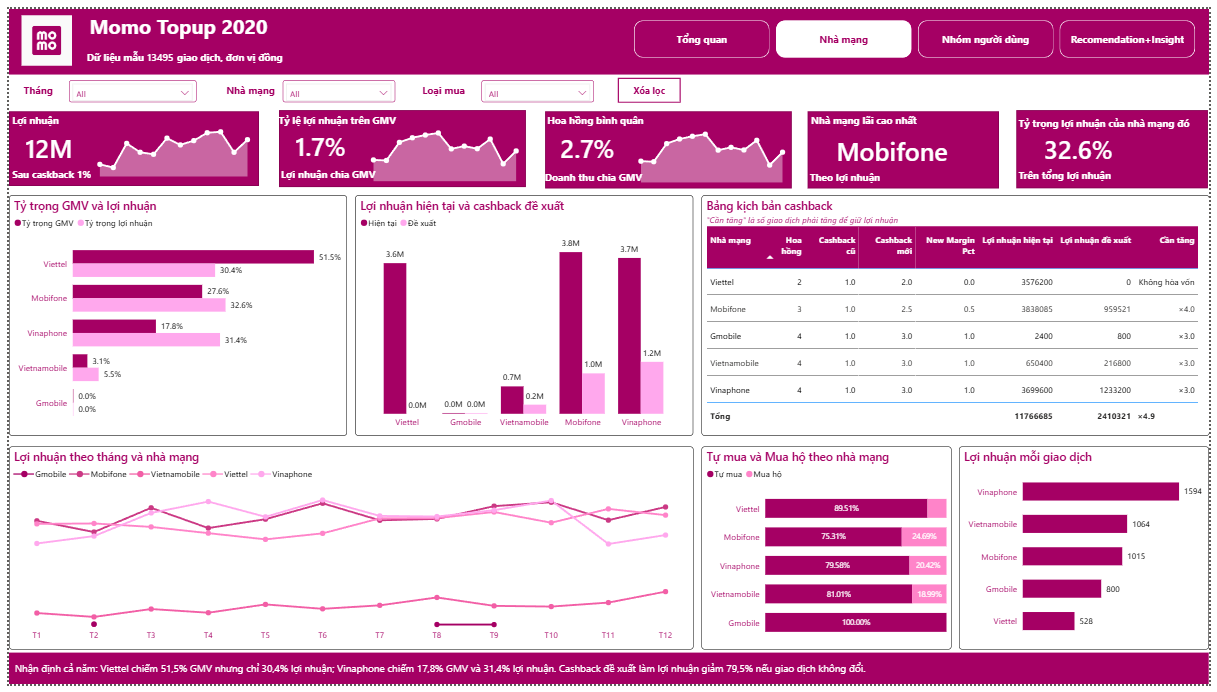

The page's visual inventory and layout, read from the dashboard file:
{"tool":"powerbi","page":{"name":"Nhà mạng","canvas":[1920,1080],"ordinal":1},"visuals":[{"type":"textbox","box":[106.4,0,407.2,97.2],"z":0,"group":"g1"},{"type":"slicer","fields":{"Values":["Date.Month_Label"]},"box":[95.7,113.7,203.6,34.9],"z":0,"group":"g3"},{"type":"slicer","fields":{"Values":["Commission.Merchant_Name"]},"box":[438,113.7,179.8,34.9],"z":0,"group":"g2"},{"type":"slicer","fields":{"Values":["Transactions.Purchase_Type"]},"box":[756.5,113.7,179.8,34.9],"z":0,"group":"g4"},{"type":"shape","box":[1612.6,161.4,306.1,124.7],"z":0,"group":"g10"},{"type":"shape","box":[430.7,163.3,394.9,122.9],"z":0,"group":"g14"},{"type":"shape","box":[0,164.3,400,119.2],"z":0,"group":"g11"},{"type":"shape","box":[857,164.3,394.2,122.9],"z":0,"group":"g12"},{"type":"shape","box":[1278.1,164.3,306,122.9],"z":0,"group":"g13"},{"type":"clusteredBarChart","title":"Tỷ trọng GMV và lợi nhuận","fields":{"Category":["Commission.Merchant_Name"],"Y":["_Measures.GMV Share","_Measures.Profit Share"]},"box":[0,299,541.1,385.2],"z":0},{"type":"cardVisual","fields":{"Data":["_Measures.Total Transactions"]},"box":[192.2,48.9,108.2,55],"z":1000,"group":"g1"},{"type":"textbox","box":[18.7,113.7,77,34.9],"z":1000,"group":"g3"},{"type":"textbox","box":[337.1,113.7,100.9,34.9],"z":1000,"group":"g2"},{"type":"textbox","box":[655.6,113.7,100.9,34.9],"z":1000,"group":"g4"},{"type":"cardVisual","fields":{"Data":["_Measures.Profit on GMV"]},"box":[444.9,187,191.5,64.2],"z":1000,"group":"g14"},{"type":"cardVisual","fields":{"Data":["_Measures.Profit"]},"box":[13.5,187.6,135.2,66],"z":1000,"group":"g11"},{"type":"cardVisual","fields":{"Data":["_Measures.Take Rate"]},"box":[869.2,187.8,189.7,64.2],"z":1000,"group":"g12"},{"type":"cardVisual","fields":{"Data":["_Measures.Top Merchant Profit Share"]},"box":[1644.2,192.4,219.9,61.5],"z":1000,"group":"g10"},{"type":"cardVisual","fields":{"Data":["_Measures.Top Merchant Name"]},"box":[1313.6,193.5,229,64.2],"z":1000,"group":"g13"},{"type":"shape","box":[0,1030.3,1919.6,50],"z":1000},{"type":"shape","box":[0,0,1920.5,104.6],"z":2000},{"type":"textbox","box":[0,161.9,139.2,38.5],"z":2000,"group":"g11"},{"type":"textbox","box":[856,161.9,281.7,34.9],"z":2000,"group":"g12"},{"type":"textbox","box":[1278.6,161.9,218.3,34.9],"z":2000,"group":"g13"},{"type":"textbox","box":[425.6,162.8,281.6,34.9],"z":2000,"group":"g14"},{"type":"textbox","box":[1611.1,164.5,291.4,35.1],"z":2000,"group":"g10"},{"type":"image","box":[0,9.2,121.1,80.7],"z":3000},{"type":"textbox","box":[0,248.3,233.2,34.9],"z":3000,"group":"g11"},{"type":"textbox","box":[1610.5,248.8,240.1,31.6],"z":3000,"group":"g10"},{"type":"textbox","box":[429.8,249.4,328.5,34.9],"z":3000,"group":"g14"},{"type":"textbox","box":[851.2,251.8,326.8,34.9],"z":3000,"group":"g12"},{"type":"textbox","box":[1276.8,252,253.1,34.9],"z":3000,"group":"g13"},{"type":"group","id":"g1","title":"Group 1","box":[106.4,0,407.2,104.6],"z":4000},{"type":"lineChart","title":"Giá trị trung bình/GD","fields":{"Category":["Date.Month_Label"],"Y":["_Measures.Profit"]},"box":[131.7,176.6,263.3,97.2],"z":4000,"group":"g11"},{"type":"lineChart","title":"Giá trị trung bình/GD","fields":{"Category":["Date.Month_Label"],"Y":["_Measures.Profit on GMV"]},"box":[569.2,179.7,255,102.7],"z":4000,"group":"g14"},{"type":"lineChart","title":"Giá trị trung bình/GD","fields":{"Category":["Date.Month_Label"],"Y":["_Measures.Take Rate"]},"box":[997.1,180.4,253.1,102.7],"z":4000,"group":"g12"},{"type":"pageNavigator","box":[999.7,18.3,900.6,60.5],"z":5000},{"type":"group","id":"g2","title":"Group 3","box":[337.1,113.7,280.6,34.9],"z":6000},{"type":"group","id":"g3","title":"Group 2","box":[18.7,113.7,280.6,34.9],"z":7000},{"type":"group","id":"g4","title":"Group 3","box":[655.6,113.7,280.6,34.9],"z":8000},{"type":"tableEx","title":"Bảng kịch bản cashback","fields":{"Values":["Commission.Merchant_Name","Commission.Rate_Pct","Commission.Cashback_Current_Pct","Commission.Cashback_New_Pct","Commission.New Margin Pct","_Measures.Profit","_Measures.Profit New Cashback","_Measures.Can Tang"]},"box":[1107.9,299,812.6,385.2],"z":9000},{"type":"actionButton","box":[974,110.1,100.9,40.4],"z":10000},{"type":"lineChart","title":"Lợi nhuận theo tháng và nhà mạng","fields":{"Category":["Date.Month_Label"],"Series":["Commission.Merchant_Name"],"Y":["_Measures.Profit"]},"box":[0,700.7,1095,324.7],"z":11000},{"type":"hundredPercentStackedBarChart","title":"Tự mua và Mua hộ theo nhà mạng","fields":{"Category":["Commission.Merchant_Name"],"Series":["Transactions.Purchase_Type"],"Y":["_Measures.Total Transactions"]},"box":[1107.9,700.7,400,325],"z":12000},{"type":"clusteredBarChart","title":"Lợi nhuận mỗi giao dịch","fields":{"Category":["Commission.Merchant_Name"],"Y":["_Measures.Profit per Transaction"]},"box":[1520.6,700.7,399.9,324.7],"z":13000},{"type":"textbox","box":[3.7,1037.1,1915.9,39.1],"z":14000},{"type":"group","id":"g5","title":"Group 4","box":[0,161.9,400,121.7],"z":15000},{"type":"group","id":"g6","title":"Group 4","box":[425.6,162.8,400,123.3],"z":16000},{"type":"group","id":"g7","title":"Group 4","box":[851.2,161.9,399.9,125.3],"z":17000},{"type":"group","id":"g8","title":"Group 4","box":[1276.8,161.9,307.3,125.3],"z":18000},{"type":"group","id":"g9","title":"Group 4","box":[1610.5,161.4,308.2,124.7],"z":19000},{"type":"group","id":"g10","title":"Group 6","box":[1610.5,161.4,308.2,124.7],"z":19004,"group":"g9"},{"type":"group","id":"g11","title":"Group 9","box":[0,161.9,400,121.7],"z":19004,"group":"g5"},{"type":"group","id":"g12","title":"Group 7","box":[851.2,161.9,399.9,125.3],"z":19004,"group":"g7"},{"type":"group","id":"g13","title":"Group 5","box":[1276.8,161.9,307.3,125.3],"z":19004,"group":"g8"},{"type":"group","id":"g14","title":"Group 8","box":[425.6,162.8,400,123.3],"z":19004,"group":"g6"},{"type":"clusteredColumnChart","title":"Lợi nhuận hiện tại và cashback đề xuất","fields":{"Category":["Commission.Merchant_Name"],"Y":["_Measures.Profit","_Measures.Profit New Cashback"]},"box":[553.9,299,541.1,385.2],"z":20000}]}

Visuals, with their boxes in screenshot pixels (x1, y1, x2, y2), scaled from the page's 1920x1080 canvas onto the 1217x692 screenshot:
textbox: x1=67 y1=0 x2=326 y2=62
slicer - Date.Month_Label: x1=61 y1=73 x2=190 y2=95
slicer - Commission.Merchant_Name: x1=278 y1=73 x2=392 y2=95
slicer - Transactions.Purchase_Type: x1=480 y1=73 x2=593 y2=95
shape: x1=1022 y1=103 x2=1216 y2=183
shape: x1=273 y1=105 x2=523 y2=183
shape: x1=0 y1=105 x2=254 y2=182
shape: x1=543 y1=105 x2=793 y2=184
shape: x1=810 y1=105 x2=1004 y2=184
"Tỷ trọng GMV và lợi nhuận" clusteredBarChart: x1=0 y1=192 x2=343 y2=438
cardVisual - _Measures.Total Transactions: x1=122 y1=31 x2=190 y2=67
textbox: x1=12 y1=73 x2=61 y2=95
textbox: x1=214 y1=73 x2=278 y2=95
textbox: x1=416 y1=73 x2=480 y2=95
cardVisual - _Measures.Profit on GMV: x1=282 y1=120 x2=403 y2=161
cardVisual - _Measures.Profit: x1=9 y1=120 x2=94 y2=162
cardVisual - _Measures.Take Rate: x1=551 y1=120 x2=671 y2=161
cardVisual - _Measures.Top Merchant Profit Share: x1=1042 y1=123 x2=1182 y2=163
cardVisual - _Measures.Top Merchant Name: x1=833 y1=124 x2=978 y2=165
shape: x1=0 y1=660 x2=1216 y2=691
shape: x1=0 y1=0 x2=1216 y2=67
textbox: x1=0 y1=104 x2=88 y2=128
textbox: x1=543 y1=104 x2=721 y2=126
textbox: x1=810 y1=104 x2=949 y2=126
textbox: x1=270 y1=104 x2=448 y2=127
textbox: x1=1021 y1=105 x2=1206 y2=128
image: x1=0 y1=6 x2=77 y2=58
textbox: x1=0 y1=159 x2=148 y2=181
textbox: x1=1021 y1=159 x2=1173 y2=180
textbox: x1=272 y1=160 x2=481 y2=182
textbox: x1=540 y1=161 x2=747 y2=184
textbox: x1=809 y1=161 x2=970 y2=184
"Group 1" group: x1=67 y1=0 x2=326 y2=67
"Giá trị trung bình/GD" lineChart: x1=83 y1=113 x2=250 y2=175
"Giá trị trung bình/GD" lineChart: x1=361 y1=115 x2=522 y2=181
"Giá trị trung bình/GD" lineChart: x1=632 y1=116 x2=792 y2=181
pageNavigator: x1=634 y1=12 x2=1205 y2=50
"Group 3" group: x1=214 y1=73 x2=392 y2=95
"Group 2" group: x1=12 y1=73 x2=190 y2=95
"Group 3" group: x1=416 y1=73 x2=593 y2=95
"Bảng kịch bản cashback" tableEx: x1=702 y1=192 x2=1216 y2=438
actionButton: x1=617 y1=71 x2=681 y2=96
"Lợi nhuận theo tháng và nhà mạng" lineChart: x1=0 y1=449 x2=694 y2=657
"Tự mua và Mua hộ theo nhà mạng" hundredPercentStackedBarChart: x1=702 y1=449 x2=956 y2=657
"Lợi nhuận mỗi giao dịch" clusteredBarChart: x1=964 y1=449 x2=1216 y2=657
textbox: x1=2 y1=665 x2=1216 y2=690
"Group 4" group: x1=0 y1=104 x2=254 y2=182
"Group 4" group: x1=270 y1=104 x2=523 y2=183
"Group 4" group: x1=540 y1=104 x2=793 y2=184
"Group 4" group: x1=809 y1=104 x2=1004 y2=184
"Group 4" group: x1=1021 y1=103 x2=1216 y2=183
"Group 6" group: x1=1021 y1=103 x2=1216 y2=183
"Group 9" group: x1=0 y1=104 x2=254 y2=182
"Group 7" group: x1=540 y1=104 x2=793 y2=184
"Group 5" group: x1=809 y1=104 x2=1004 y2=184
"Group 8" group: x1=270 y1=104 x2=523 y2=183
"Lợi nhuận hiện tại và cashback đề xuất" clusteredColumnChart: x1=351 y1=192 x2=694 y2=438
